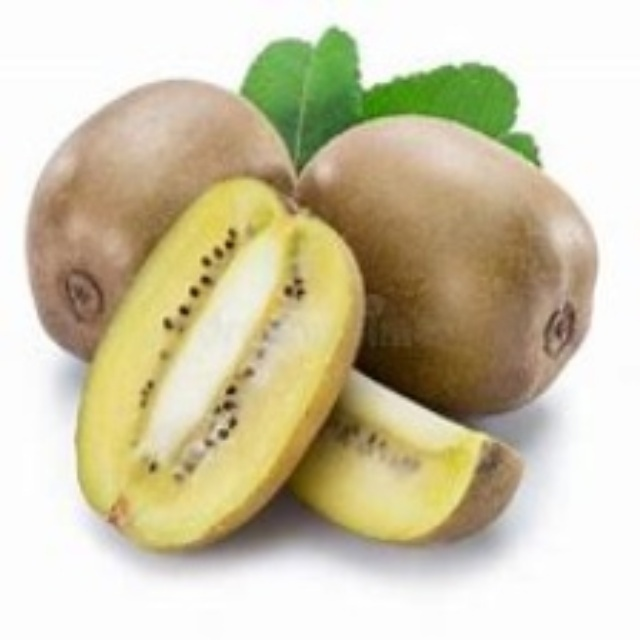kiwi: (85, 187, 518, 552), (302, 119, 598, 422), (24, 74, 293, 354)
